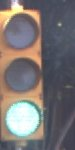Green: (3, 6, 44, 140)
